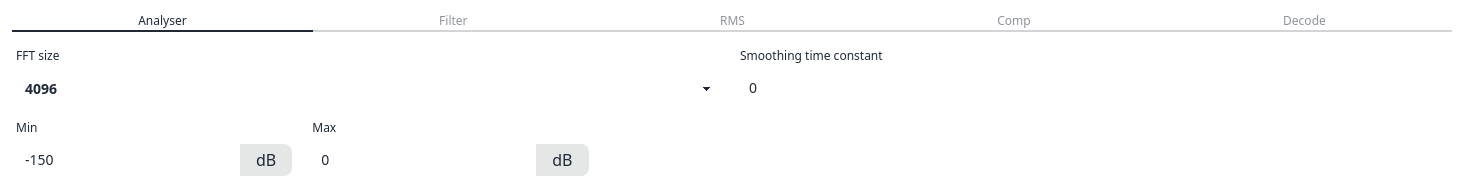
can show Filter settings
This screenshot has width=1464, height=193.
Step 1. Click the button "Filter" → (453, 22), box [313,12,594,32]
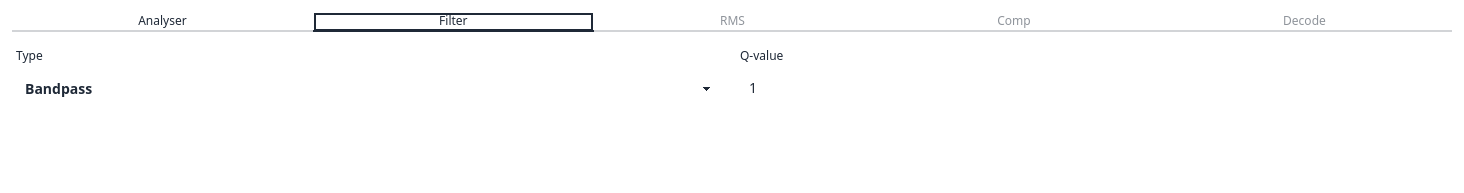
Expected: the text "Q-value" is shown, [740,47,783,64]
